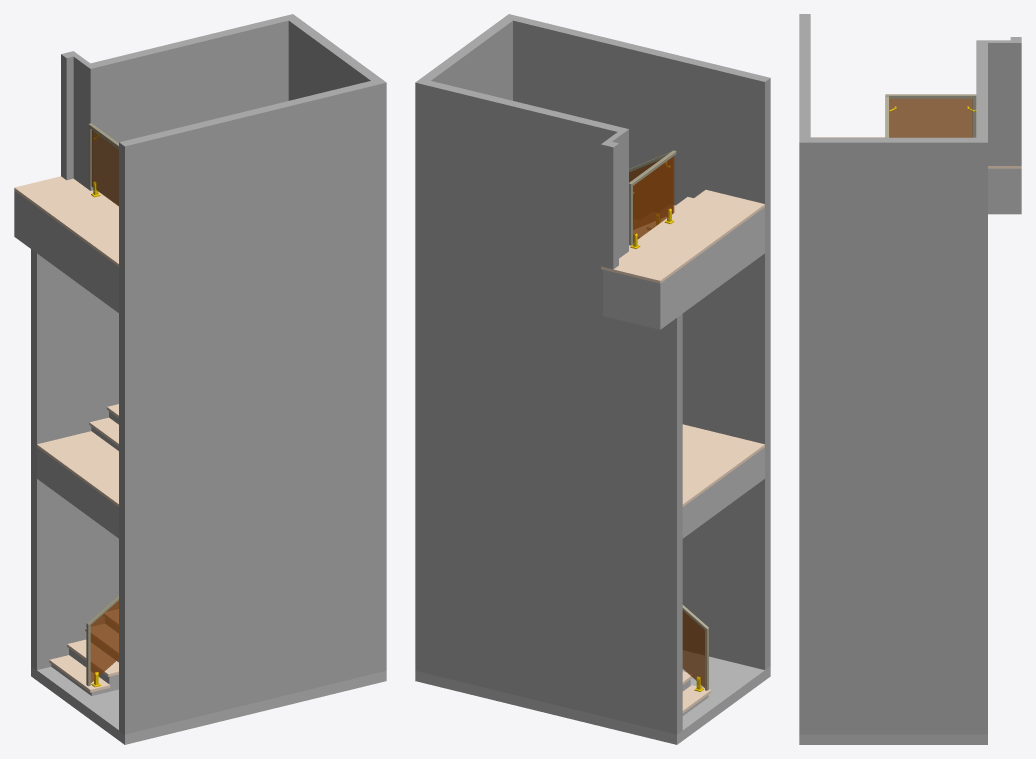
The model's file is 3D Сборка 1.obj.
The picture shows the model from 3 angles, left to right: view 1: azimuth 30°, elevation 25°; view 2: azimuth 150°, elevation 25°; view 3: azimuth 270°, elevation 25°; orthographic projection.
Bounding box in the file's own units: 3.96 × 8.65 × 2.9.
